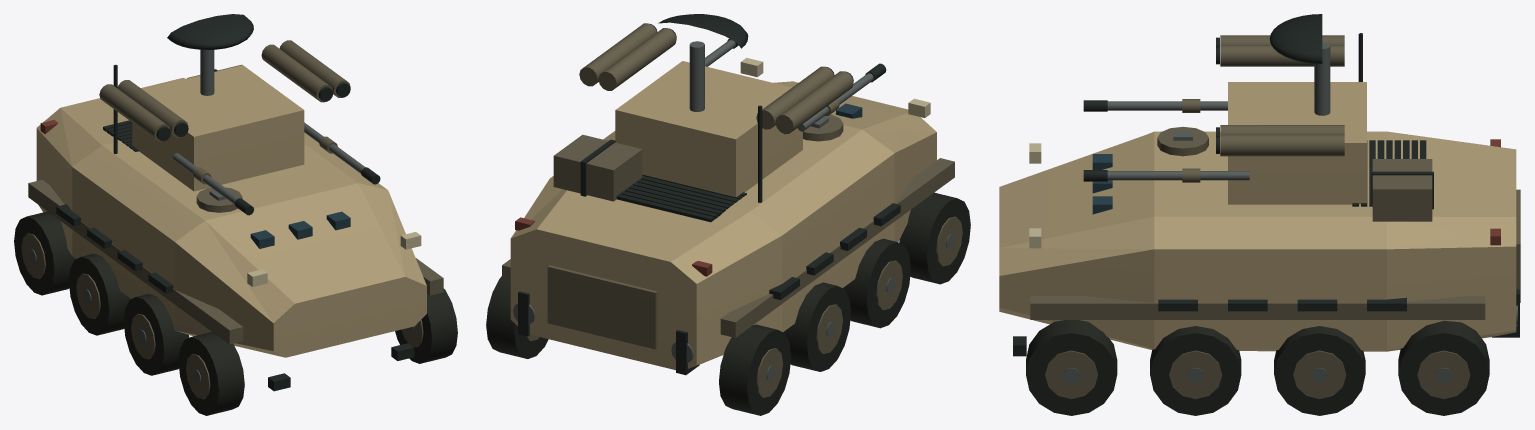
Rendered from spaa.glb.
3 views of the same model, side by side, from view 1: azimuth 30°, elevation 25°; view 2: azimuth 150°, elevation 25°; view 3: azimuth 270°, elevation 25° (orthographic). The views are drawn at different scales.
Parts seen in each view (by area): view 1: armor (×2), equipment (×6), glass; view 2: armor (×2), equipment (×5); view 3: armor (×2), equipment (×6), glass.
Part boxes in pixels (left/top/right/bottom): armor (×2): left=36, top=65, right=426, bottom=357; equipment (×6): left=14, top=14, right=457, bottom=415; glass: left=250, top=211, right=350, bottom=248; armor (×2): left=510, top=61, right=936, bottom=370; equipment (×5): left=486, top=14, right=970, bottom=415; armor (×2): left=999, top=82, right=1516, bottom=351; equipment (×6): left=1013, top=14, right=1520, bottom=415; glass: left=1092, top=154, right=1112, bottom=214.
Size of the model in its own units: 3.19 by 3.57 by 5.24.
